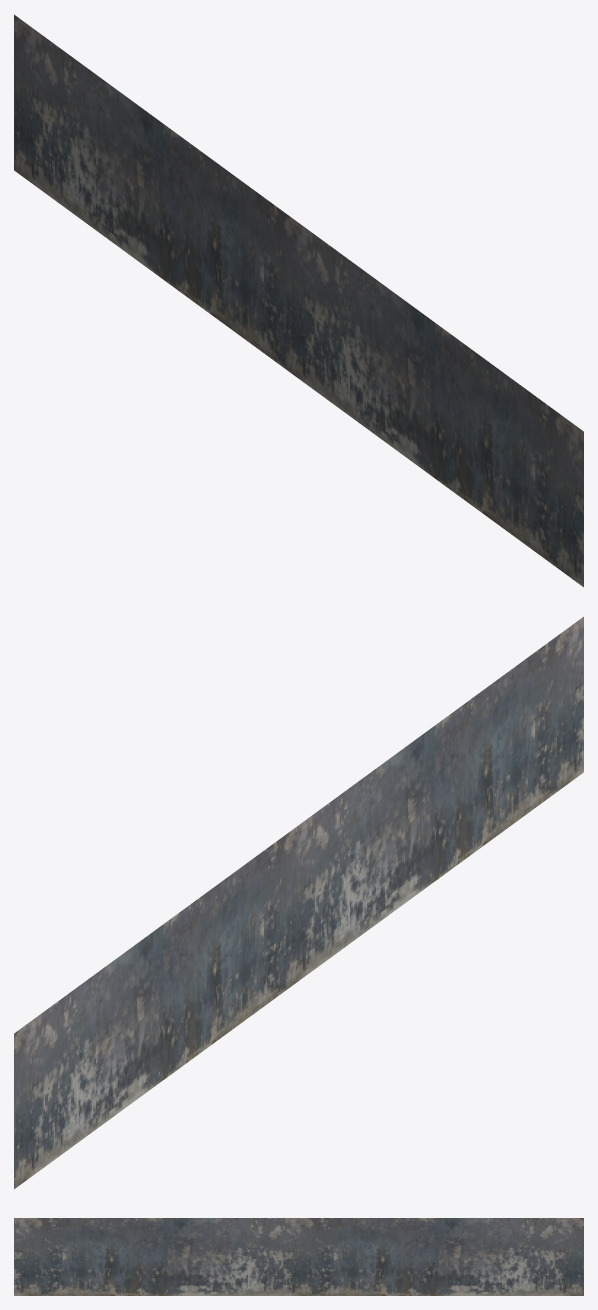
File: sewer room f1 walkway wall left.fbx
3 renders of one model, top to bottom at view 1: azimuth 30°, elevation 25°; view 2: azimuth 150°, elevation 25°; view 3: azimuth 270°, elevation 25°, orthographic. The views are drawn at different scales.
Parts seen in each view (by area): view 1: pPlane2; view 2: pPlane2; view 3: pPlane2.
Boxes of the visible parts, x1,y1,x2,y2 form: pPlane2: [14, 14, 583, 587]; pPlane2: [14, 616, 583, 1189]; pPlane2: [14, 1218, 583, 1295].
Size of the model in its own units: 0 by 374 by 2481.
